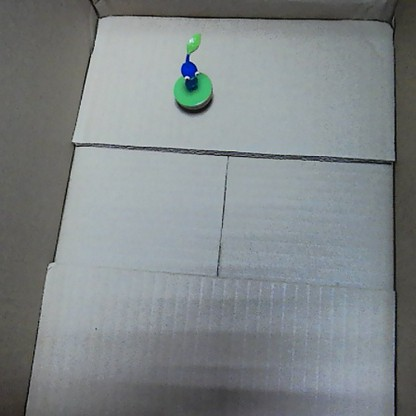leafairy: (170, 29, 215, 114)
